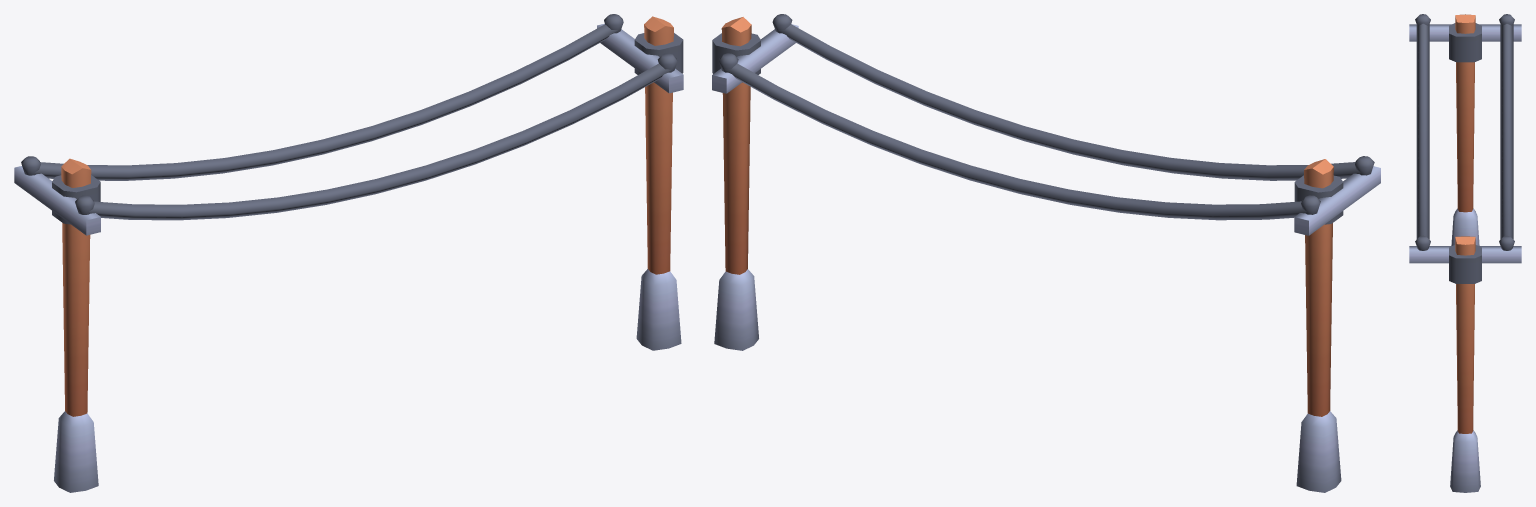
Rendered from electricity-pole-wide.glb.
The picture shows the model from 3 angles, left to right: view 1: azimuth 30°, elevation 25°; view 2: azimuth 150°, elevation 25°; view 3: azimuth 270°, elevation 25°; orthographic projection. The views are drawn at different scales.
Parts seen in each view (by area): view 1: electricity-pole-wide; view 2: electricity-pole-wide; view 3: electricity-pole-wide.
Boxes of the visible parts, bbox=[...] form: electricity-pole-wide: bbox=[14, 14, 683, 492]; electricity-pole-wide: bbox=[712, 14, 1380, 492]; electricity-pole-wide: bbox=[1409, 14, 1521, 492].
Bounding box in the file's own units: 1.08 × 0.525 × 0.2142.
1 material, 1 textured.
